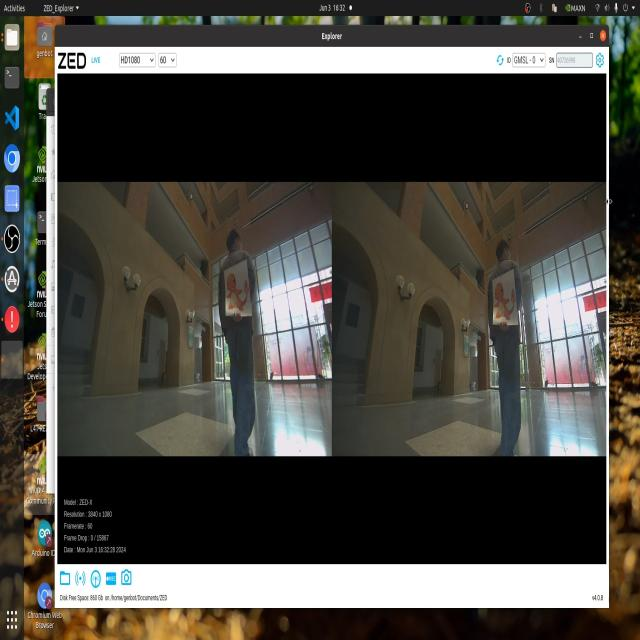red: (217, 262, 256, 329), (489, 273, 527, 328)
